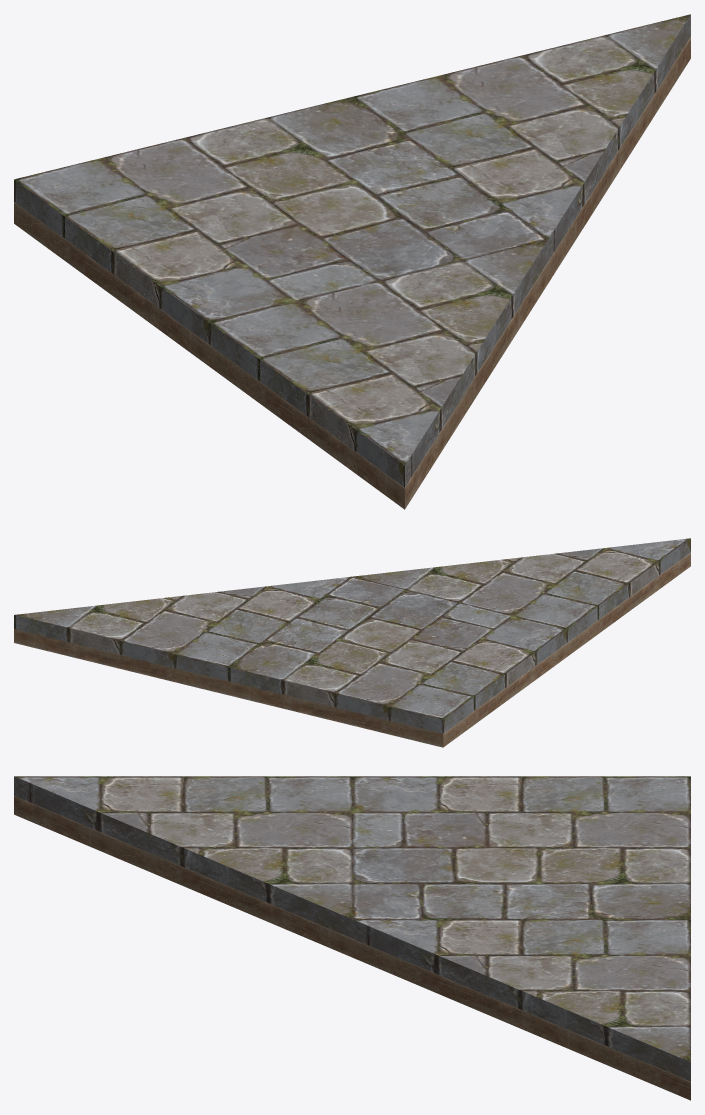
The picture shows the model from 3 angles, top to bottom: view 1: azimuth 30°, elevation 25°; view 2: azimuth 150°, elevation 25°; view 3: azimuth 270°, elevation 25°; orthographic projection. The views are drawn at different scales.
Visible parts, largest first — view 1: SM_Greathall_Floor_45_8x8_01_LOD0; view 2: SM_Greathall_Floor_45_8x8_01_LOD0; view 3: SM_Greathall_Floor_45_8x8_01_LOD0.
Part boxes in pixels (<box>): SM_Greathall_Floor_45_8x8_01_LOD0: <box>14,14,690,509</box>; SM_Greathall_Floor_45_8x8_01_LOD0: <box>14,538,690,747</box>; SM_Greathall_Floor_45_8x8_01_LOD0: <box>14,776,690,1100</box>.
Size of the model in its own units: 8 by 0.5 by 8.
2 materials, 2 textured.
